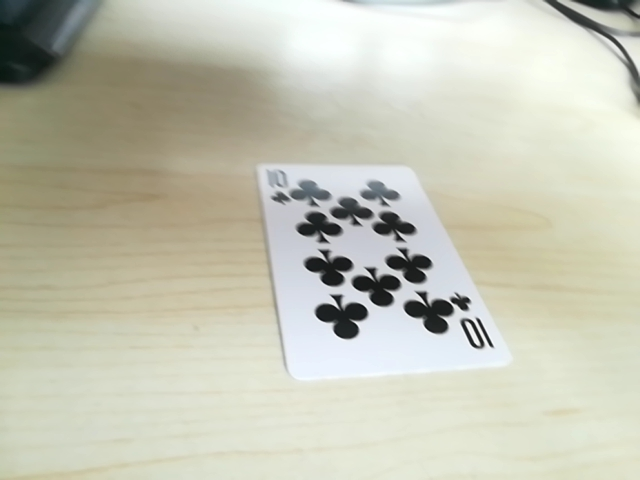mh 10: (266, 170, 416, 218), (448, 295, 494, 353)
